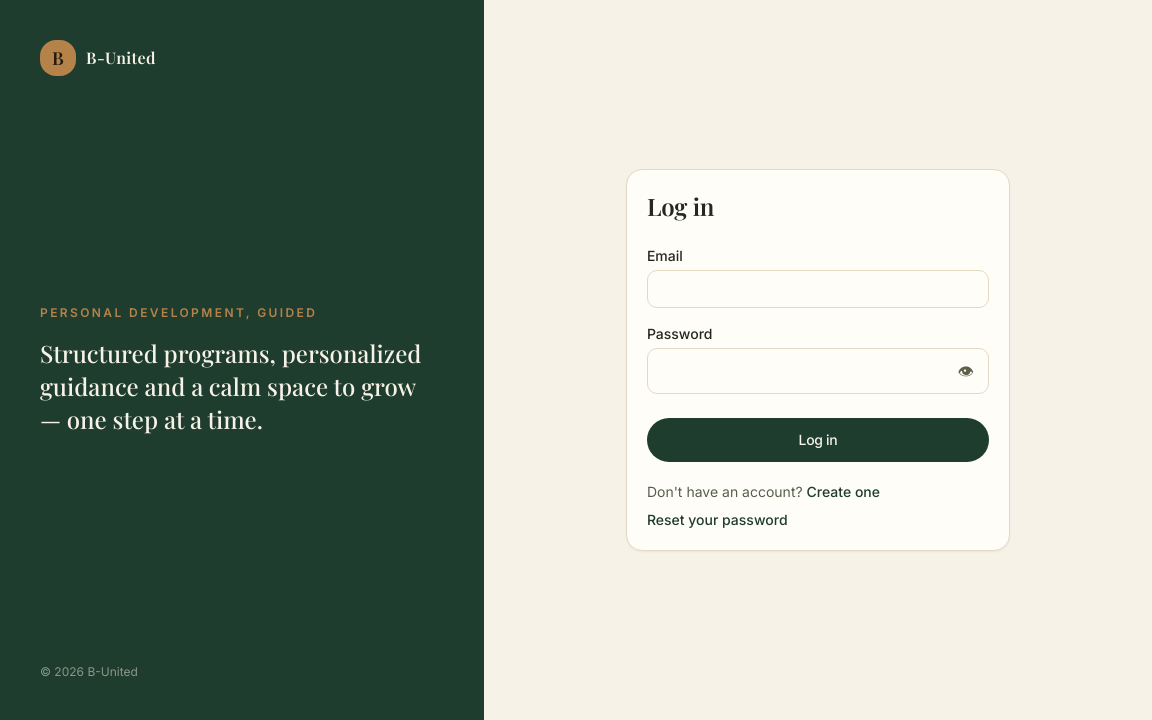
Scenario: LoginPage › shows the server error without revealing which field was wrong
Step 1. Type "ada@example.com" into the field labelled "Email" → [818, 289], box [647,270,989,308]
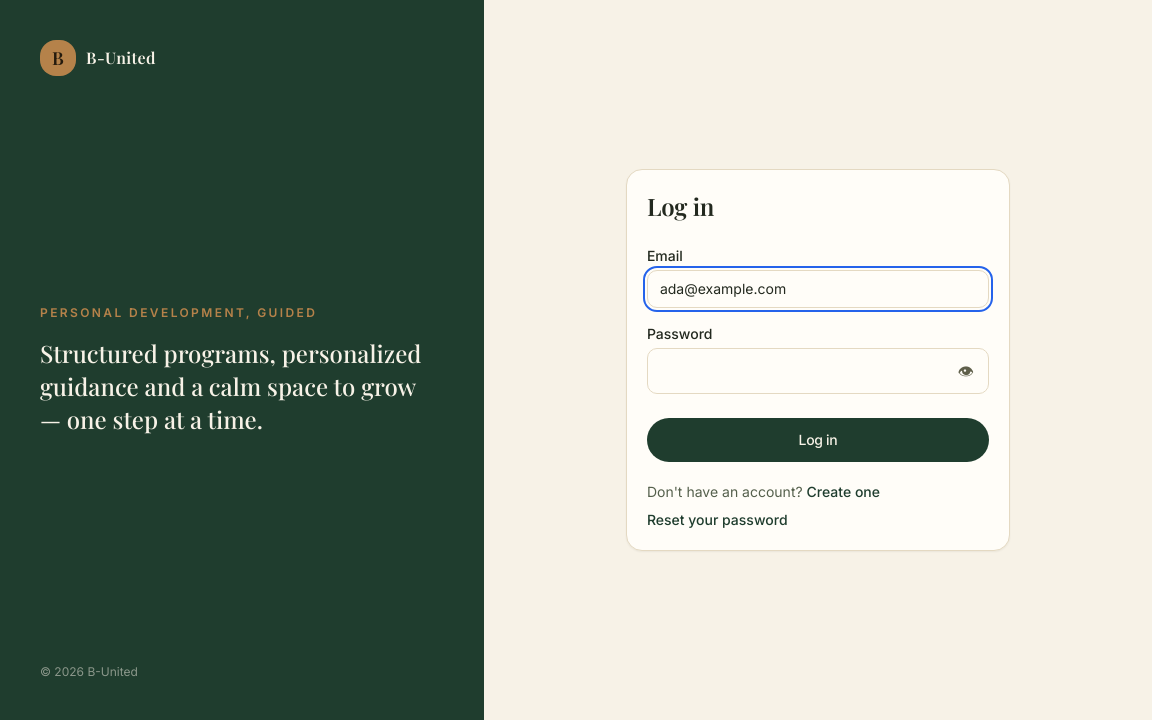
Step 2. Type "WrongPassword" into the password field labelled "Password" → [796, 371], box [648,353,944,389]
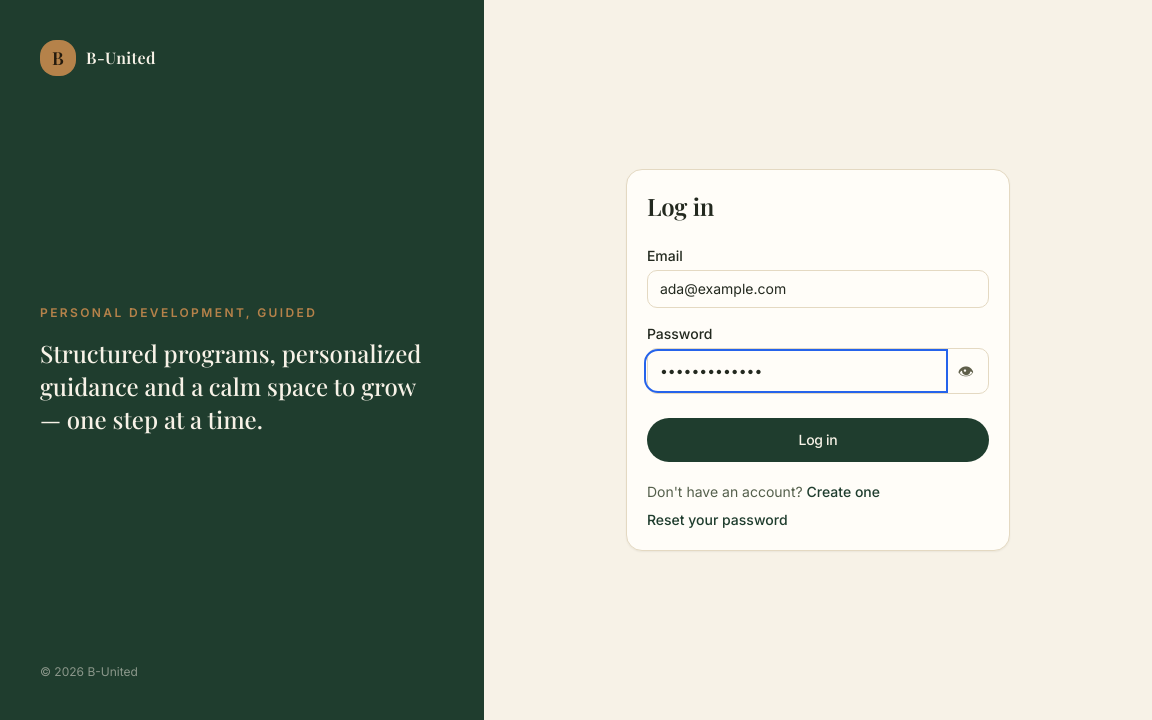
Step 3. Click the button "Log in" → [818, 440], box [647,418,989,462]
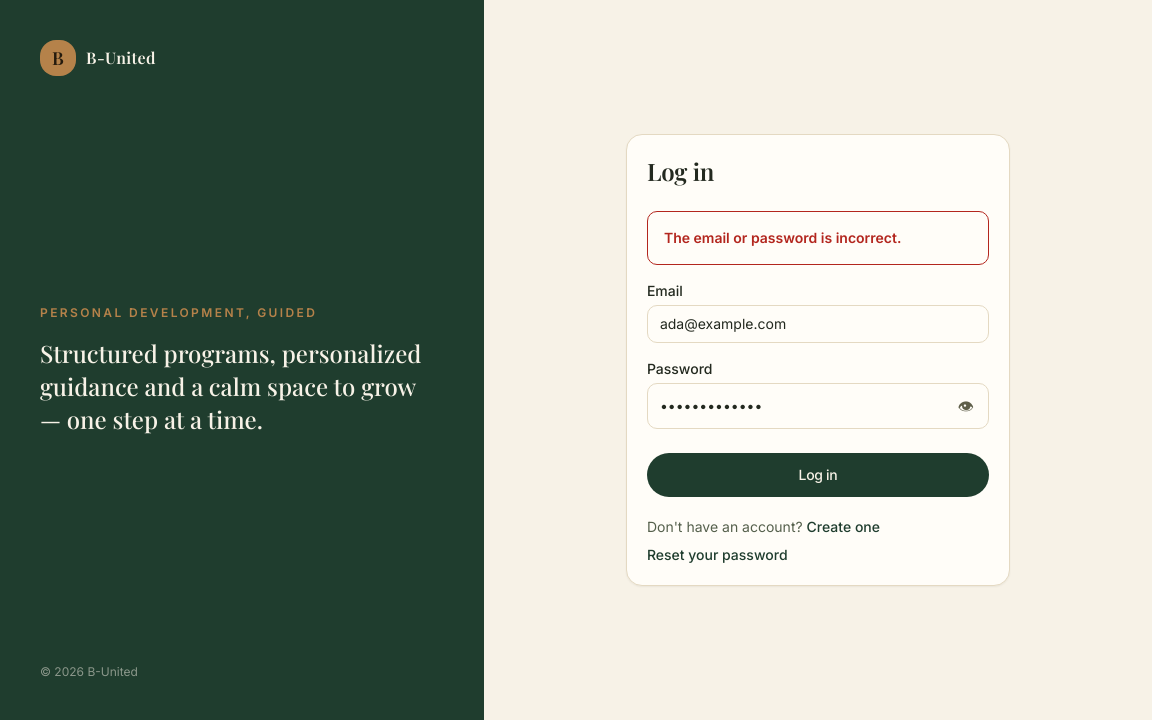
Result: the text "The email or password is incorrect." is shown at [664,228,901,248]
